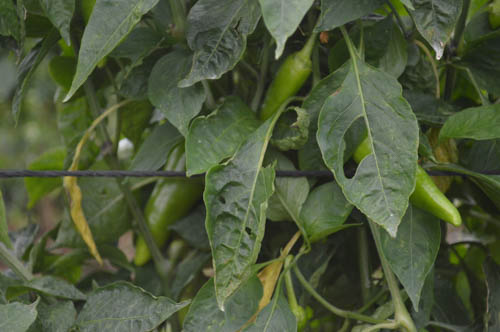ChiliPepper: (356, 138, 464, 226), (131, 145, 203, 269), (258, 54, 312, 123)
